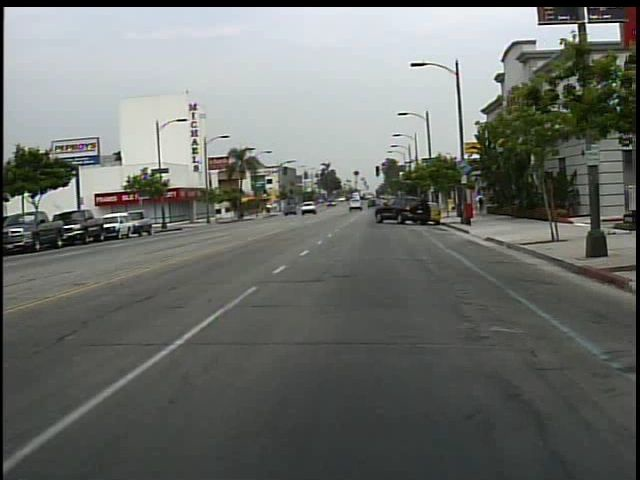person: (477, 189, 491, 219)
